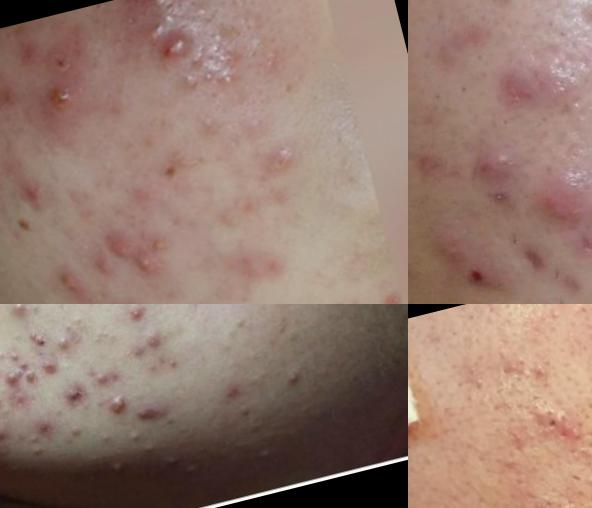blackhead: (535, 395, 592, 457)
papular: (480, 36, 568, 124), (5, 168, 64, 231), (430, 224, 475, 269), (126, 394, 170, 430), (62, 263, 99, 305), (59, 376, 93, 413), (138, 328, 182, 356), (133, 252, 161, 284), (214, 378, 246, 405), (117, 305, 157, 326), (1, 370, 31, 398), (30, 415, 58, 443), (58, 419, 88, 445), (89, 364, 118, 389), (113, 233, 133, 266), (43, 358, 61, 388), (1, 421, 15, 449)
purulent: (52, 78, 89, 123), (103, 390, 138, 420), (161, 41, 193, 65), (1, 305, 37, 325)
sebo-crystan-conglo: (528, 171, 592, 244), (193, 26, 242, 87), (468, 145, 521, 195), (141, 2, 184, 37)
whitehead: (51, 314, 95, 363), (537, 305, 592, 333), (278, 362, 312, 400), (221, 310, 264, 340), (232, 400, 269, 434), (26, 434, 48, 463), (158, 447, 182, 472), (1, 342, 23, 369), (140, 436, 162, 459), (186, 458, 210, 479), (126, 426, 153, 440), (110, 460, 129, 477), (548, 1, 579, 11), (71, 305, 103, 314)
